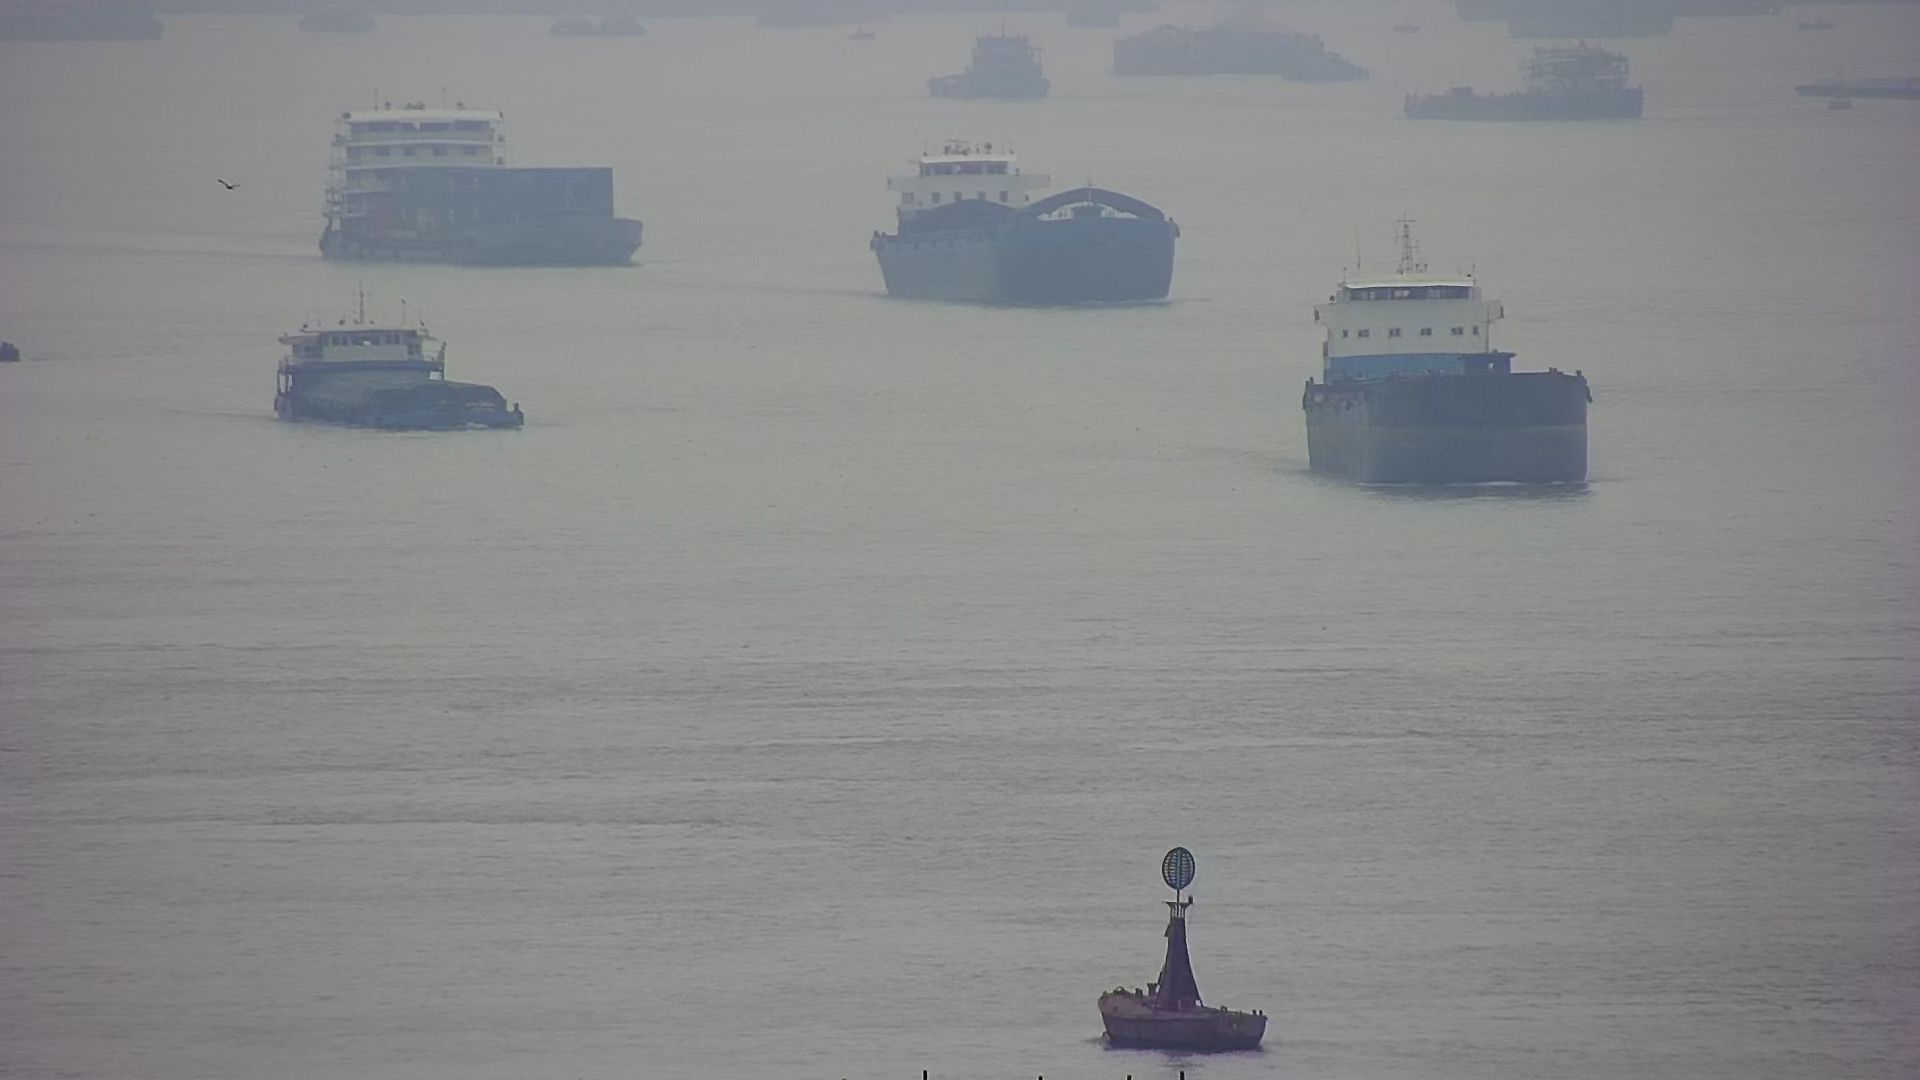boat: (1098, 848, 1269, 1048)
ship: (1303, 264, 1592, 492), (314, 108, 645, 268), (869, 149, 1178, 305), (273, 326, 524, 430), (1408, 49, 1642, 123), (931, 30, 1048, 99)
